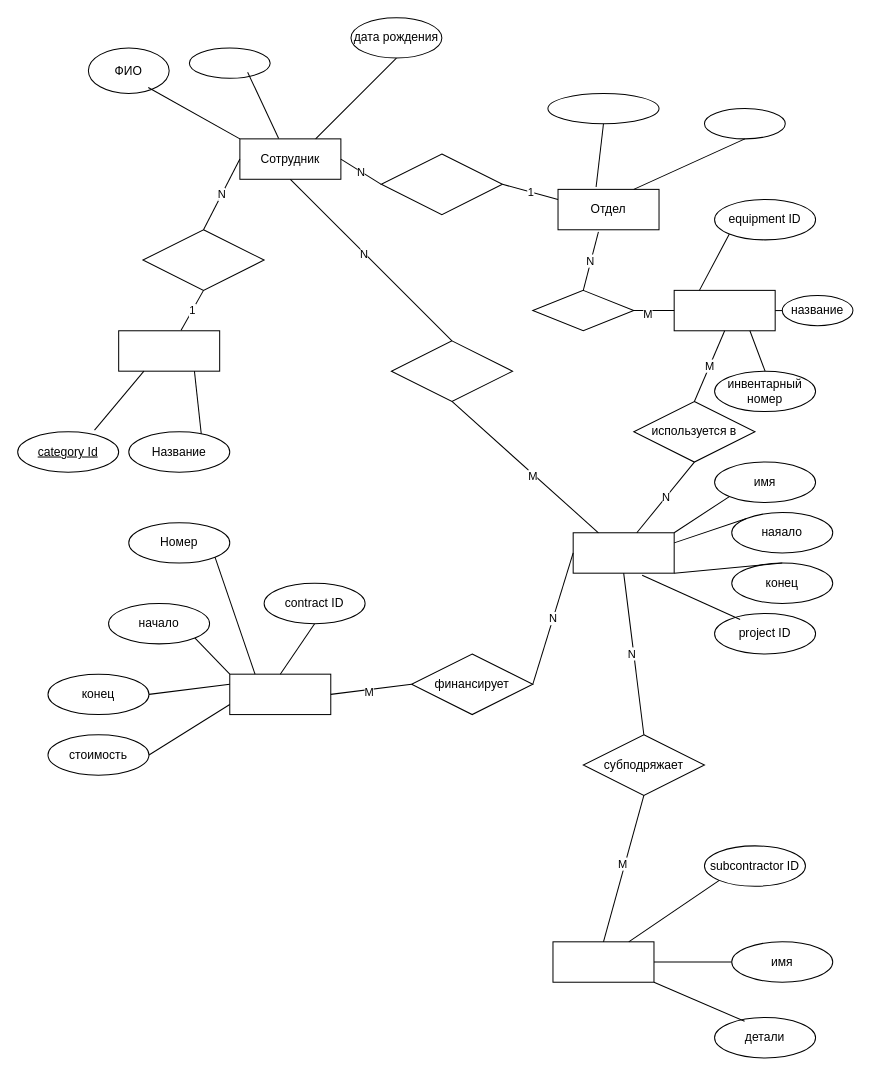
The diagram is 871 pixels wide and 1076 high, and some of its shapes have lost their labels. The shapes that lost their labels are listed below. From the top down, each one's box as (x1, y1, x2, y2) in pixels, then its label:
(188, 47, 270, 78): employee ID
(547, 92, 659, 124): department ID
(703, 108, 785, 139): Name
(380, 153, 502, 215): имеет
(142, 229, 264, 290): принадлежит
(532, 289, 634, 331): назначено
(673, 289, 775, 331): Оборудование
(118, 330, 220, 371): Категория сотрудника
(390, 340, 513, 401): работает над
(572, 532, 674, 573): проект
(229, 673, 331, 715): Договор
(552, 941, 654, 982): Субподрядчик
